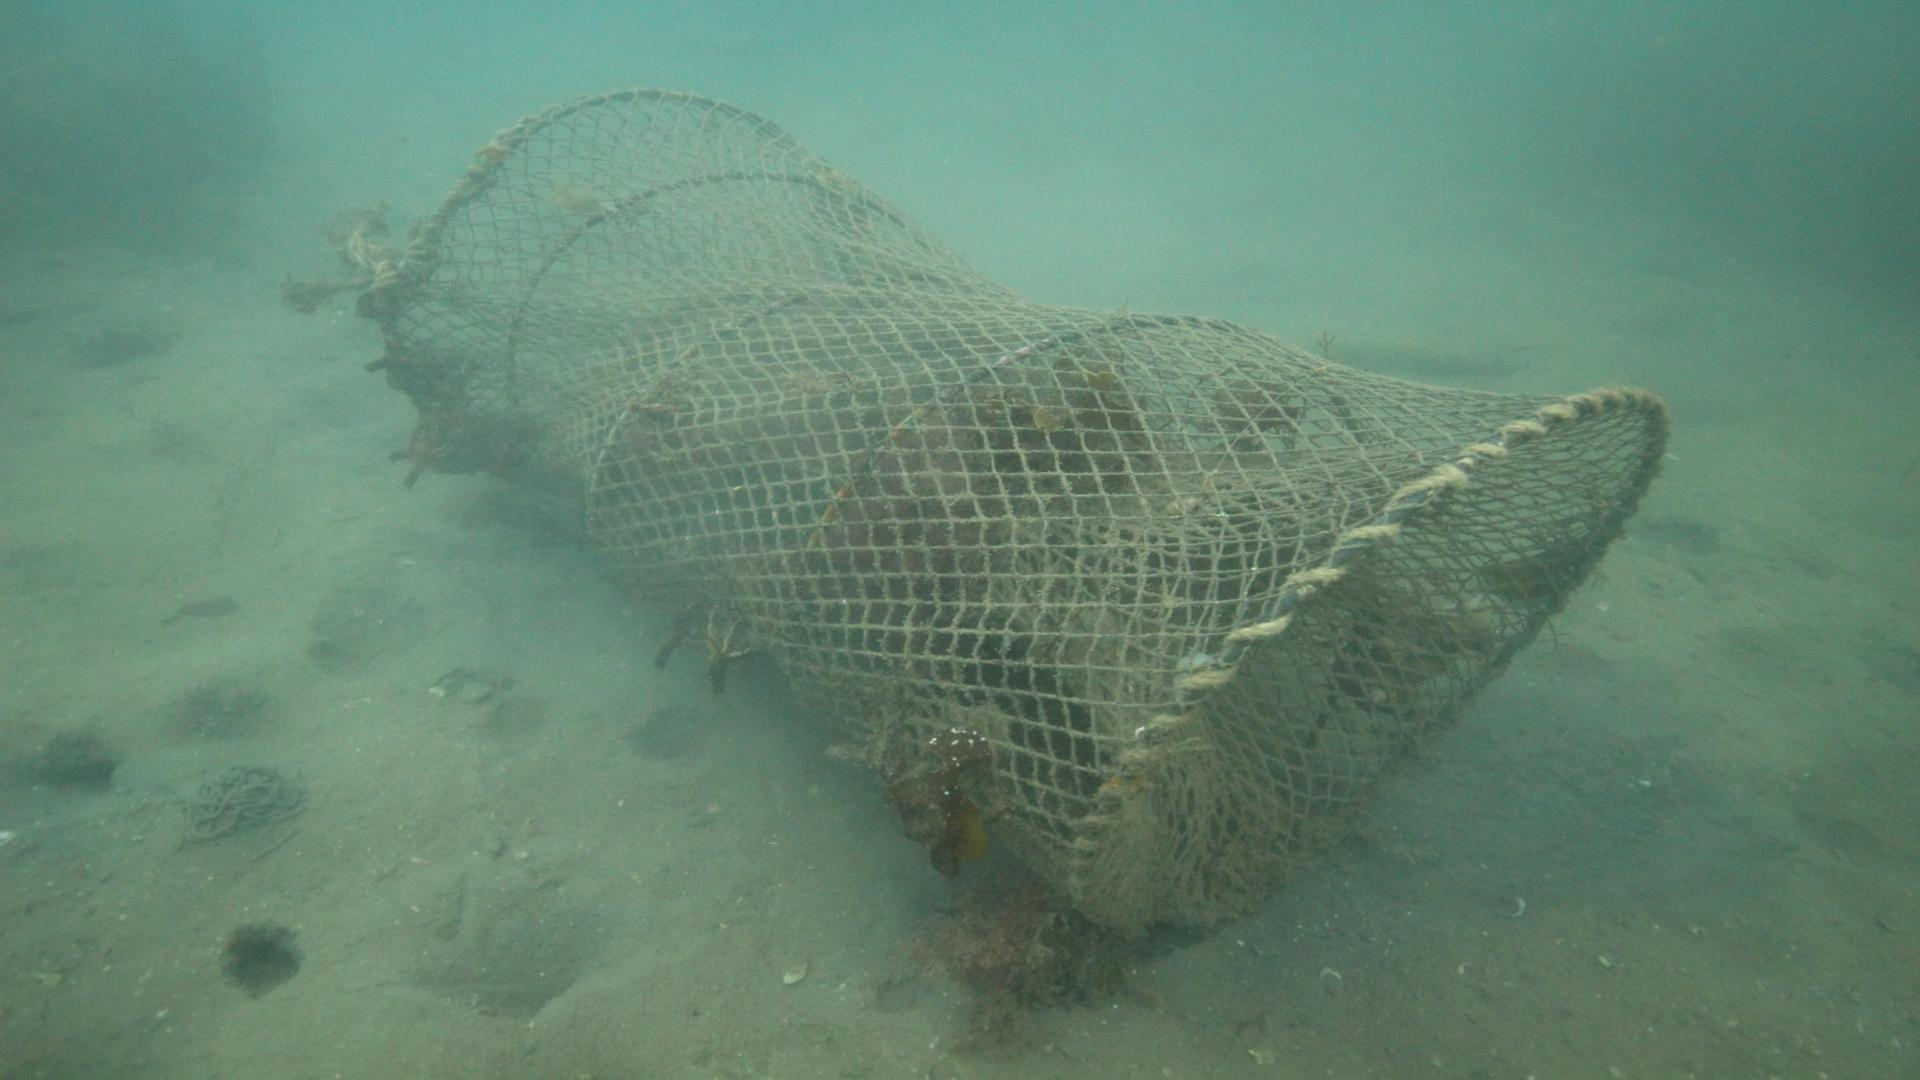spring fish trap: (373, 84, 1669, 942)
